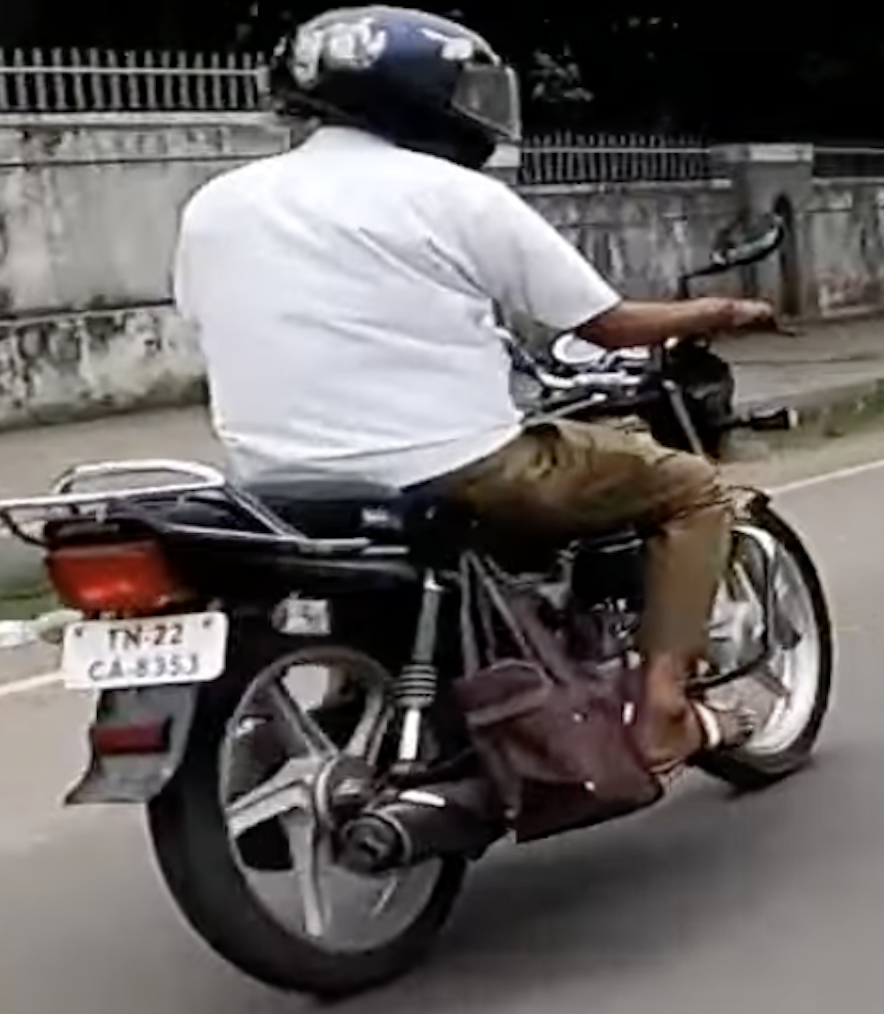motor: (13, 304, 832, 992)
number: (57, 615, 226, 691)
with helmet: (270, 12, 519, 168)
